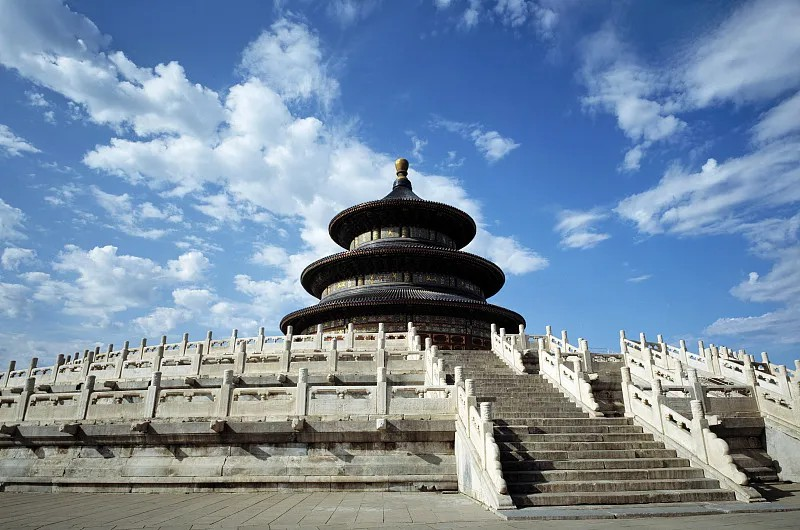Heaven: (280, 158, 526, 350)
